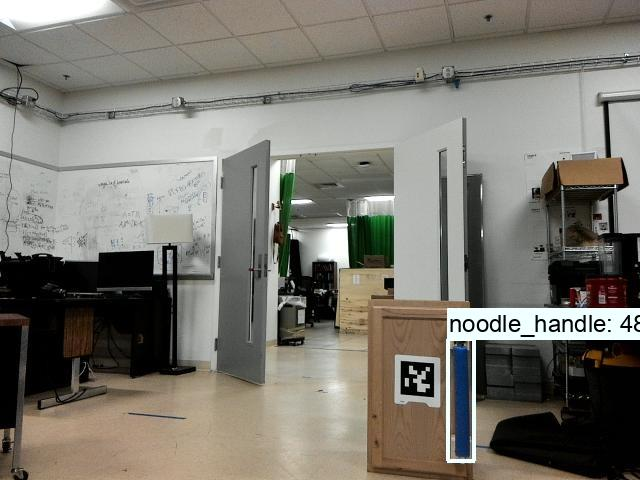noodle_handle: (449, 342, 475, 460)
